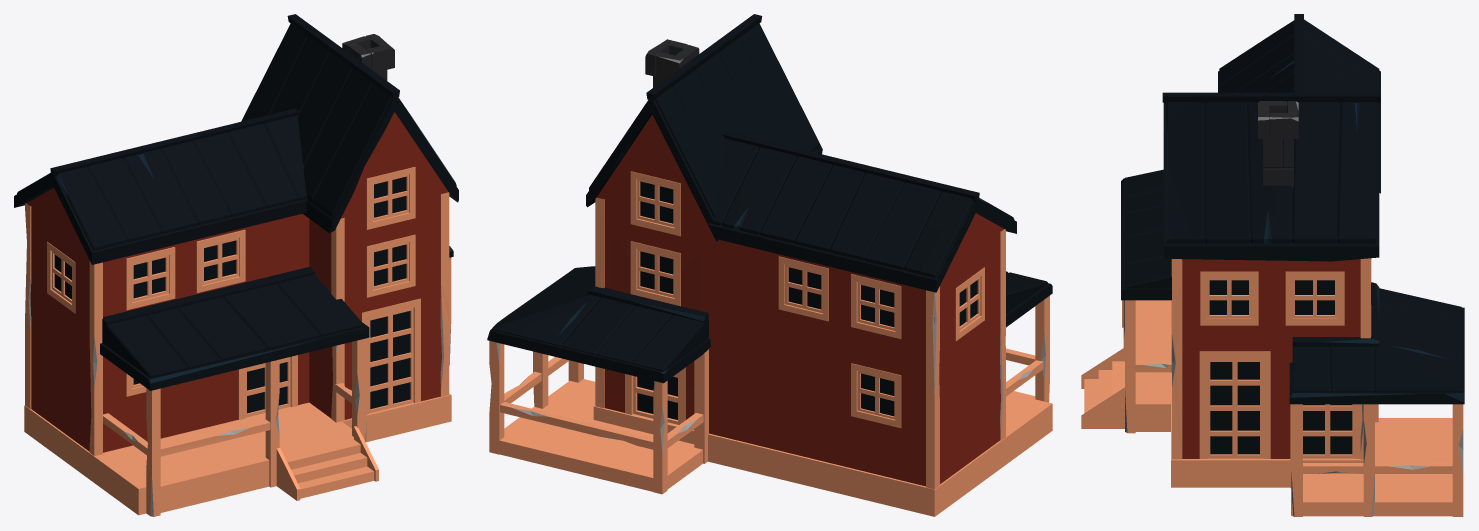
Rendered from House_3.fbx.
3 renders of one model, left to right at view 1: azimuth 30°, elevation 25°; view 2: azimuth 150°, elevation 25°; view 3: azimuth 270°, elevation 25°, orthographic. The views are drawn at different scales.
Visible parts, largest first — view 1: House_3; view 2: House_3; view 3: House_3.
Boxes of the visible parts, x1,y1,x2,y2 form: House_3: (14,14,458,516); House_3: (487,14,1052,516); House_3: (1081,14,1464,516).
Bounding box in the file's own units: 340 × 285 × 273.
